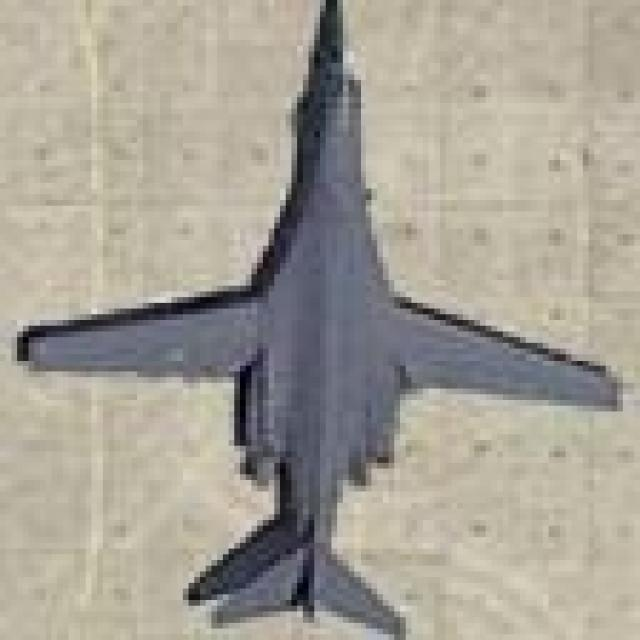B-1_TopDown: (11, 0, 622, 634)
